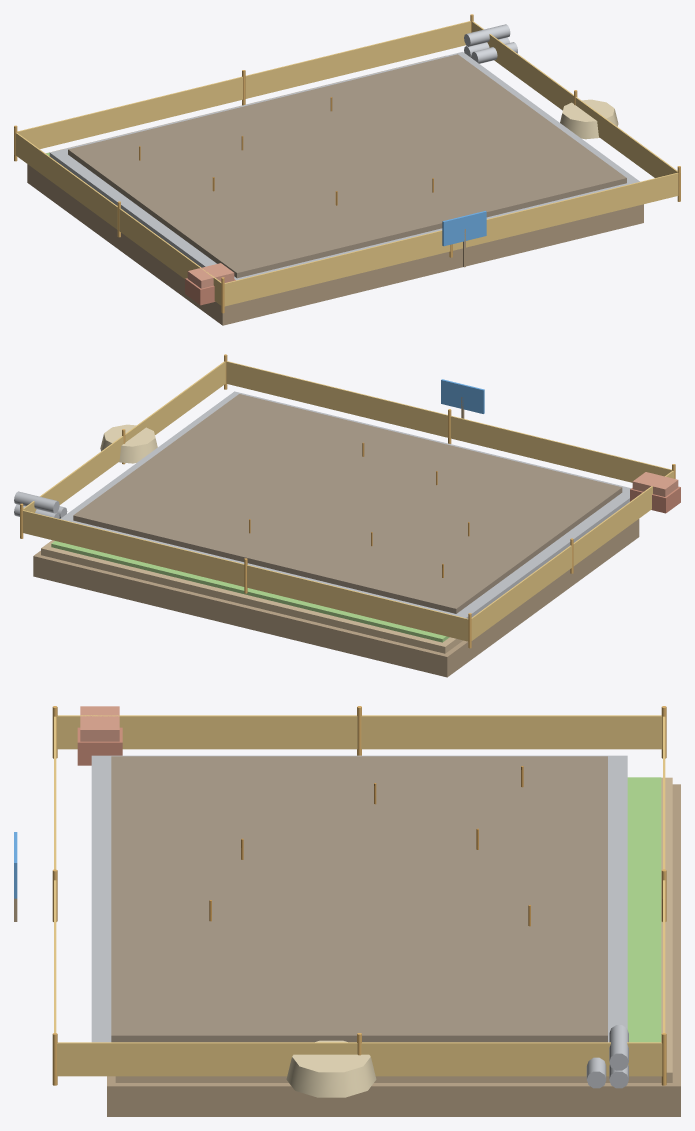
File: townhall-site.glb
3 views of the same model, one above another, from view 1: azimuth 30°, elevation 25°; view 2: azimuth 150°, elevation 25°; view 3: azimuth 270°, elevation 25° (orthographic). The views are drawn at different scales.
Size of the model in its own units: 30.12 by 4.65 by 23.71.
